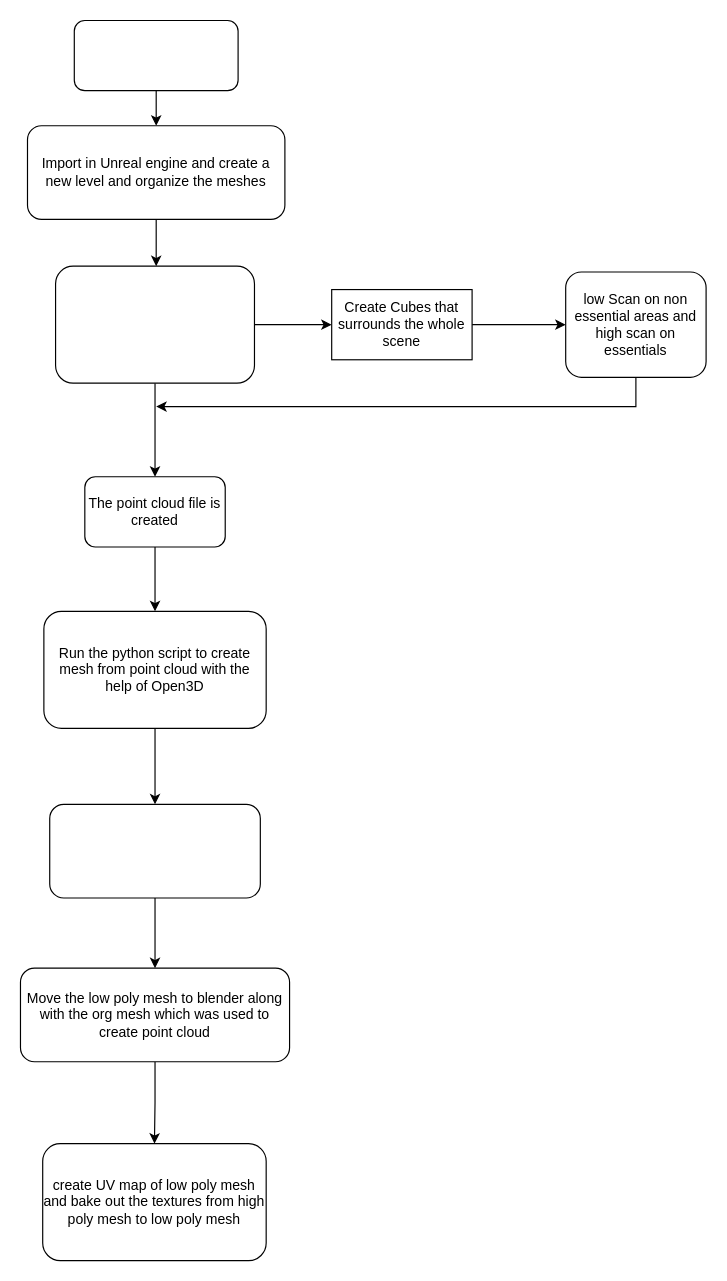
Some shapes in this 727 by 1281 pixel diagram are drawn without their labels. Each missing label, with the centre of its shape:
export model in gltf or fbx from dcc(like 3dsmax): the point at 155,55
Optimized low poly mesh is created in .ply format: the point at 154,850
Set up point cloud scanning in UE: the point at 154,324
